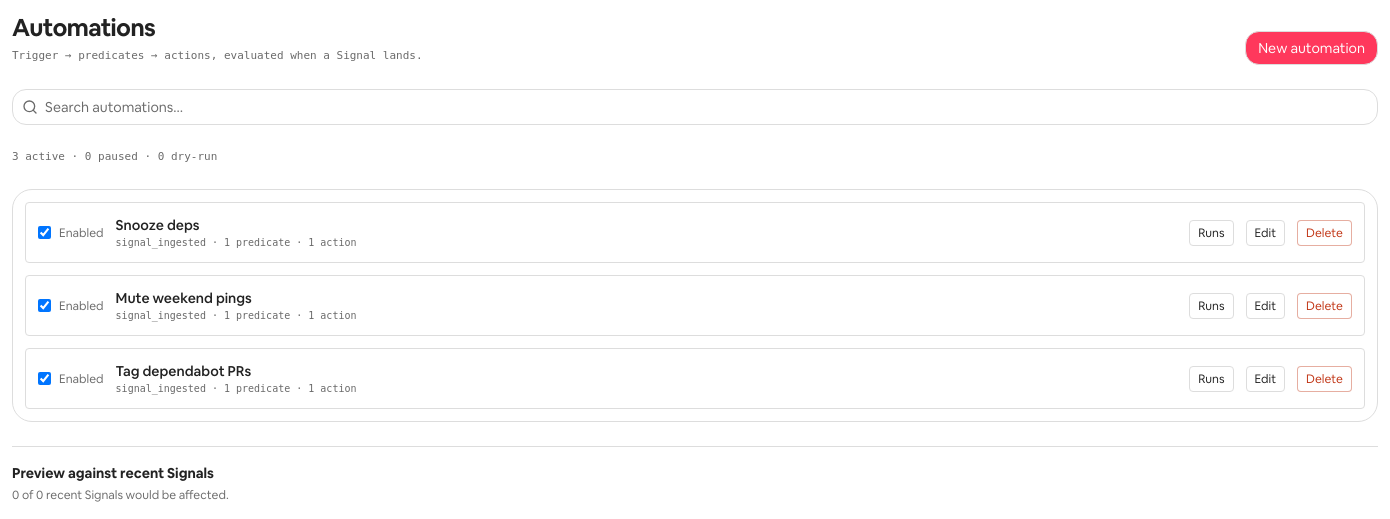
Test: AutomationsPanel search › renders a no-matches message distinct from the first-run empty state
Type "zzznope" into the search field labelled "Search automations" at (695, 106), box [12,88,1378,124]
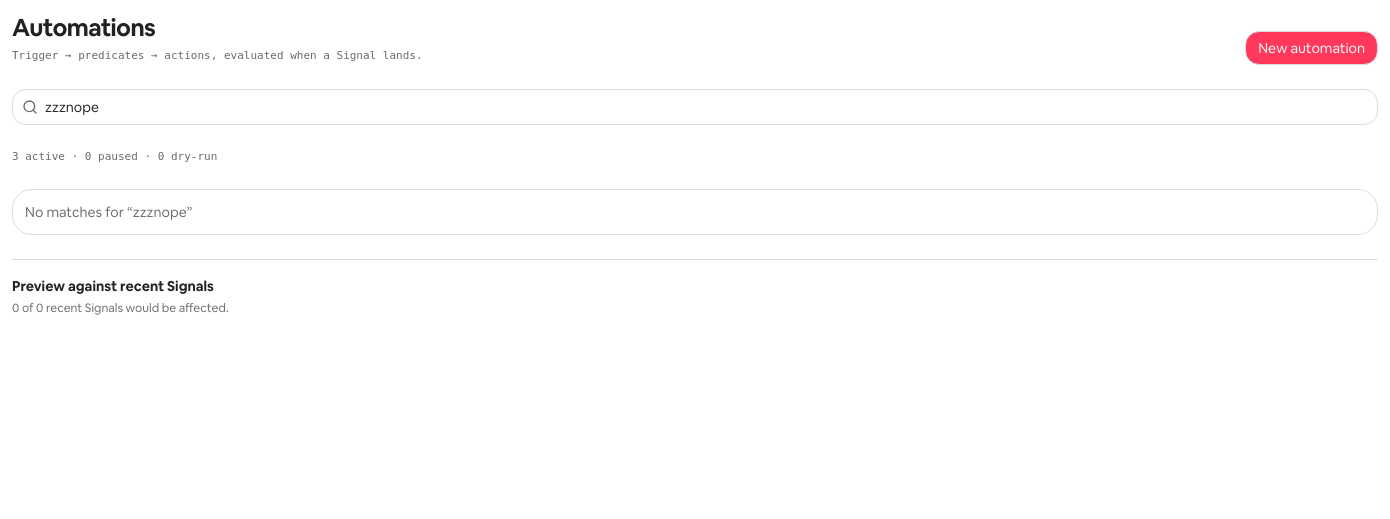
Expected: the text "No matches for “zzznope”" is shown, [25,203,192,221]
